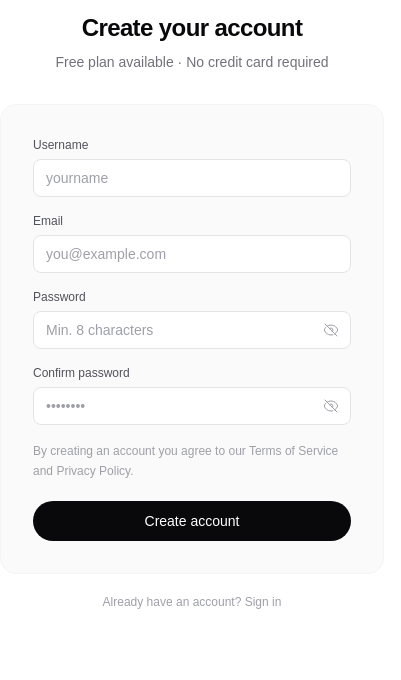
Test case: RegisterForm › client-side validation › shows an error for an invalid email address
Type "testuser" into the field labelled "Username" at (192, 178), box [33,159,351,197]
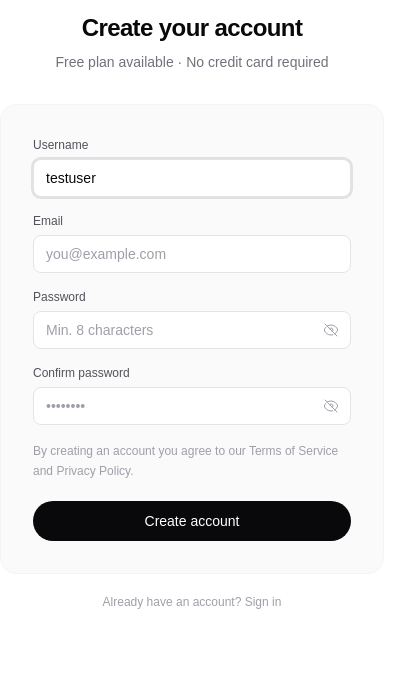
Type "not-an-email" into the field labelled "Email" at (192, 254), box [33,235,351,273]
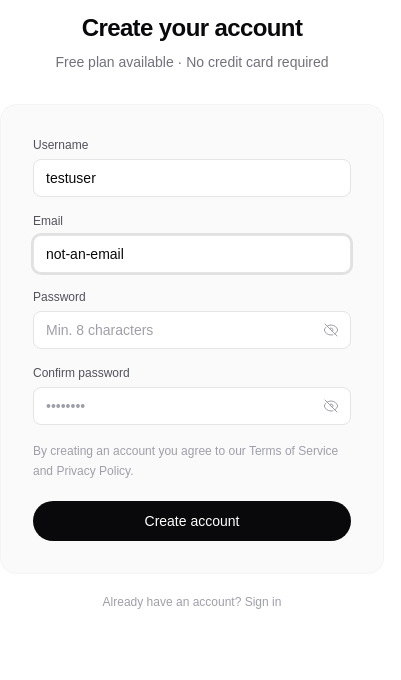
Type "password123" into the password field labelled "Password" at (192, 330), box [33,311,351,349]
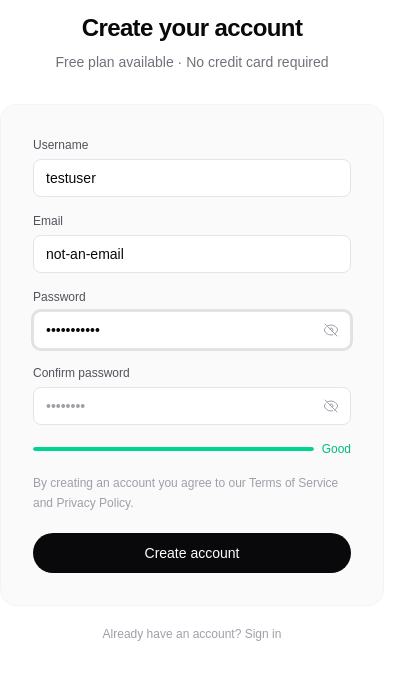
Type "password123" into the password field labelled "Confirm password" at (192, 406), box [33,387,351,425]
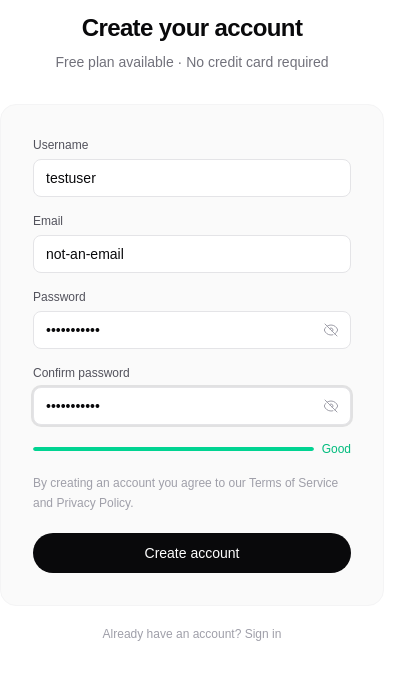
Click the button "Create account" at (192, 553), box [33,533,351,573]
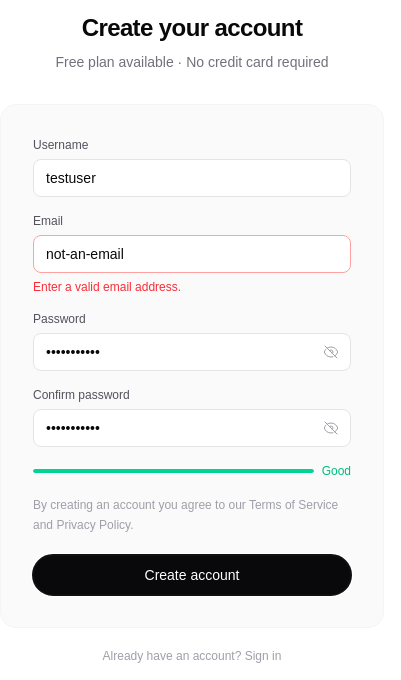
Now the text "Enter a valid email address." is shown, box [33,280,181,294]
